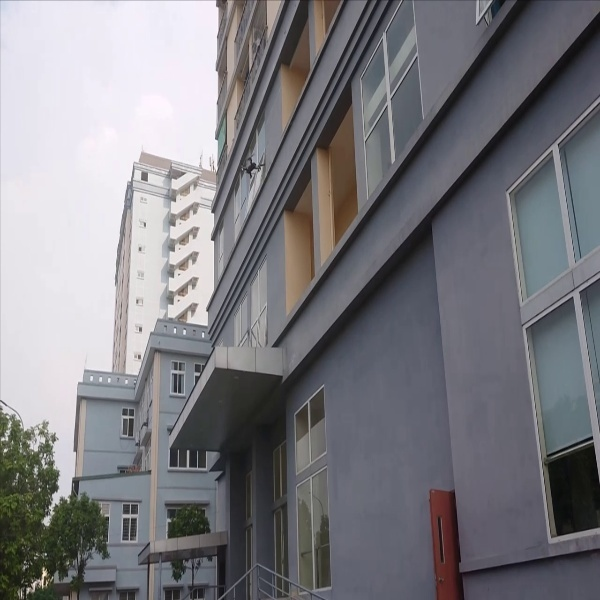drone: (236, 152, 266, 182)
